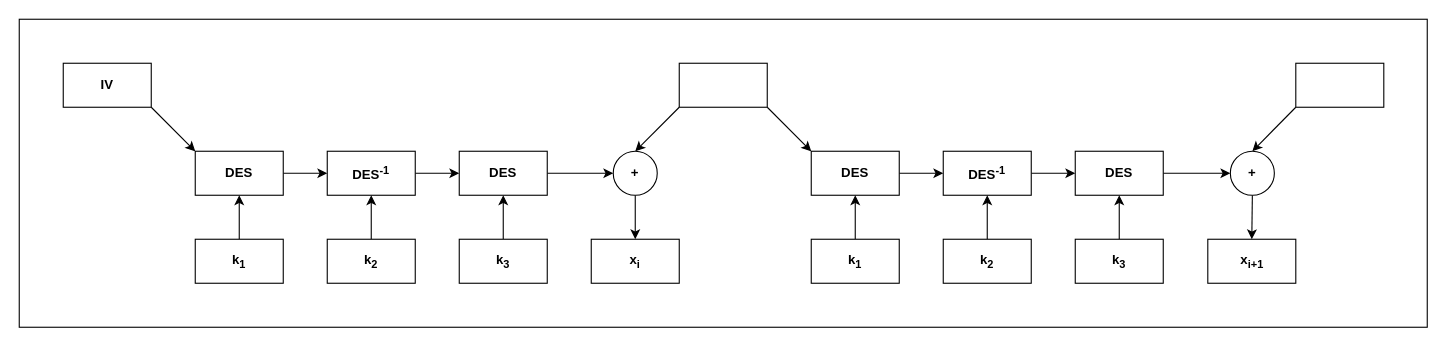
This 1447x347 diagram has some shape labels left out. Here are the shapes that lost their labels. From the top down, the centre of each, then its label:
point (722, 84): y i
point (1339, 84): y i+1
